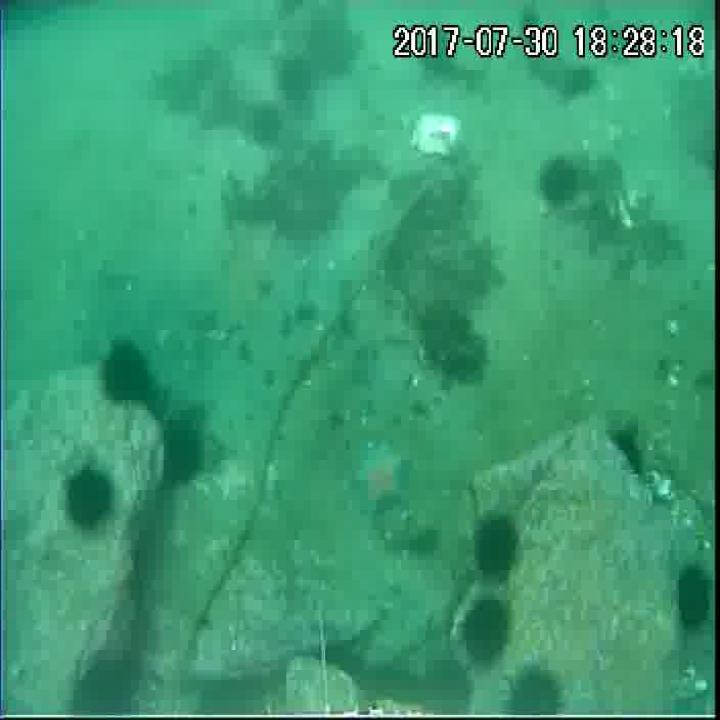echinus: (416, 295, 492, 386), (98, 337, 157, 412), (501, 659, 568, 720), (468, 505, 520, 580), (460, 596, 512, 669), (160, 412, 206, 494), (62, 464, 114, 528), (675, 562, 718, 636), (536, 152, 580, 210), (246, 95, 288, 153), (273, 50, 313, 104), (608, 422, 648, 474)
starfish: (349, 435, 415, 519)
